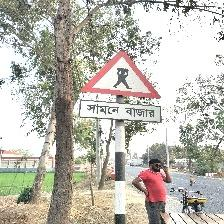Market-in-front: (79, 50, 163, 124)
